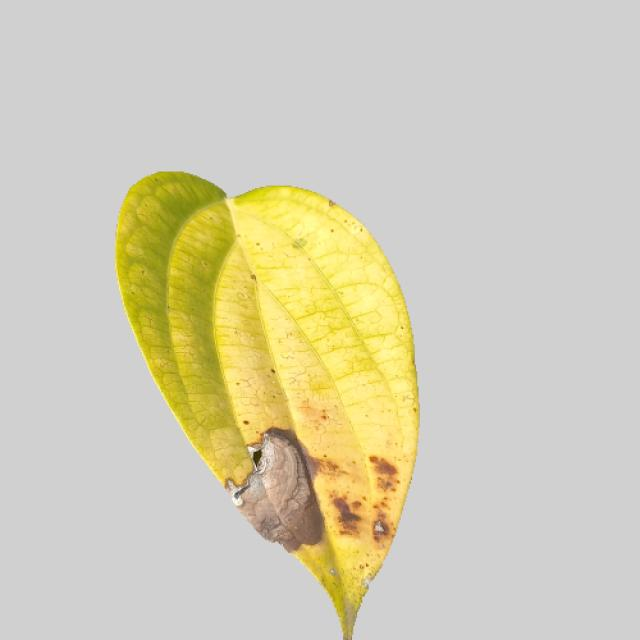leaf-blight: (105, 179, 420, 635)
